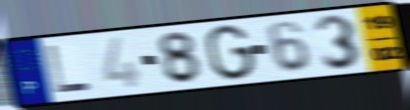3: (314, 13, 362, 72)
4: (101, 35, 144, 91)
6: (266, 19, 312, 75)
8: (156, 30, 204, 85)
G: (204, 23, 258, 82)
L: (45, 44, 94, 95)
